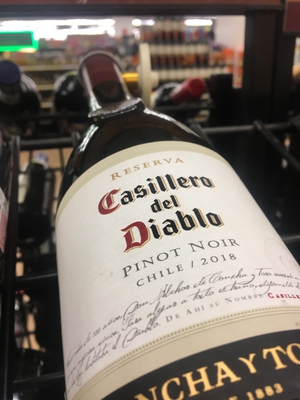casillero del diablo pinot noir: (40, 70, 300, 398)
